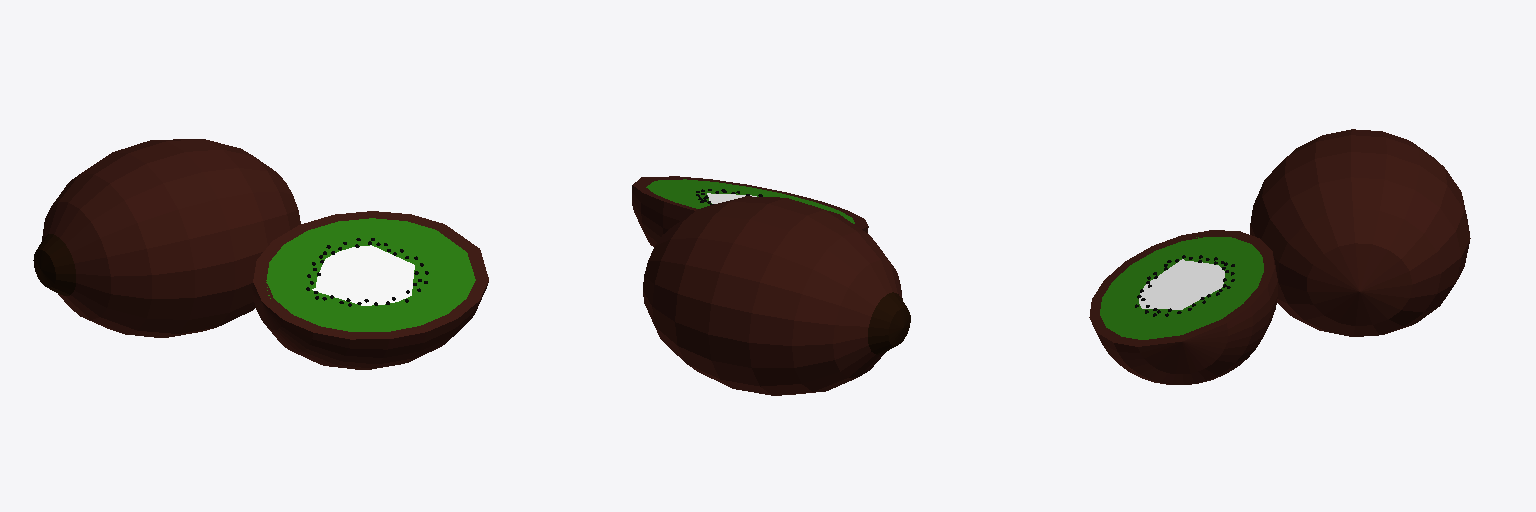
Rendered from Kiwi_226.obj.
The picture shows the model from 3 angles: view 1: azimuth 30°, elevation 25°; view 2: azimuth 150°, elevation 25°; view 3: azimuth 270°, elevation 25°; orthographic projection.
Visible parts, largest first — view 1: Sphere001, Sphere002; view 2: Sphere001, Sphere002; view 3: Sphere001, Sphere002.
Boxes of the visible parts, x1,y1,x2,y2 form: Sphere001: [33, 139, 300, 337]; Sphere002: [252, 211, 488, 369]; Sphere001: [643, 196, 910, 395]; Sphere002: [632, 176, 868, 246]; Sphere001: [1250, 129, 1470, 336]; Sphere002: [1089, 230, 1277, 384].
Size of the model in its own units: 40.18 by 19.01 by 37.83.